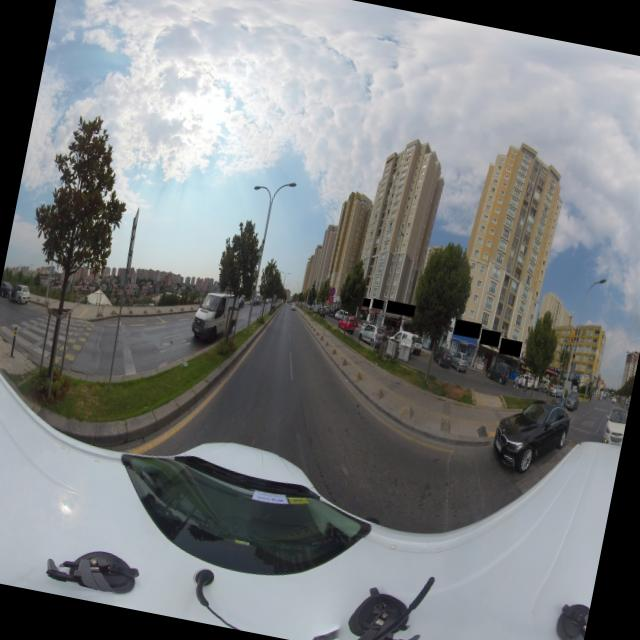SignStore: (454, 319, 481, 339), (386, 300, 416, 317), (500, 338, 521, 358), (480, 329, 500, 347), (372, 299, 384, 309), (362, 299, 371, 308)
